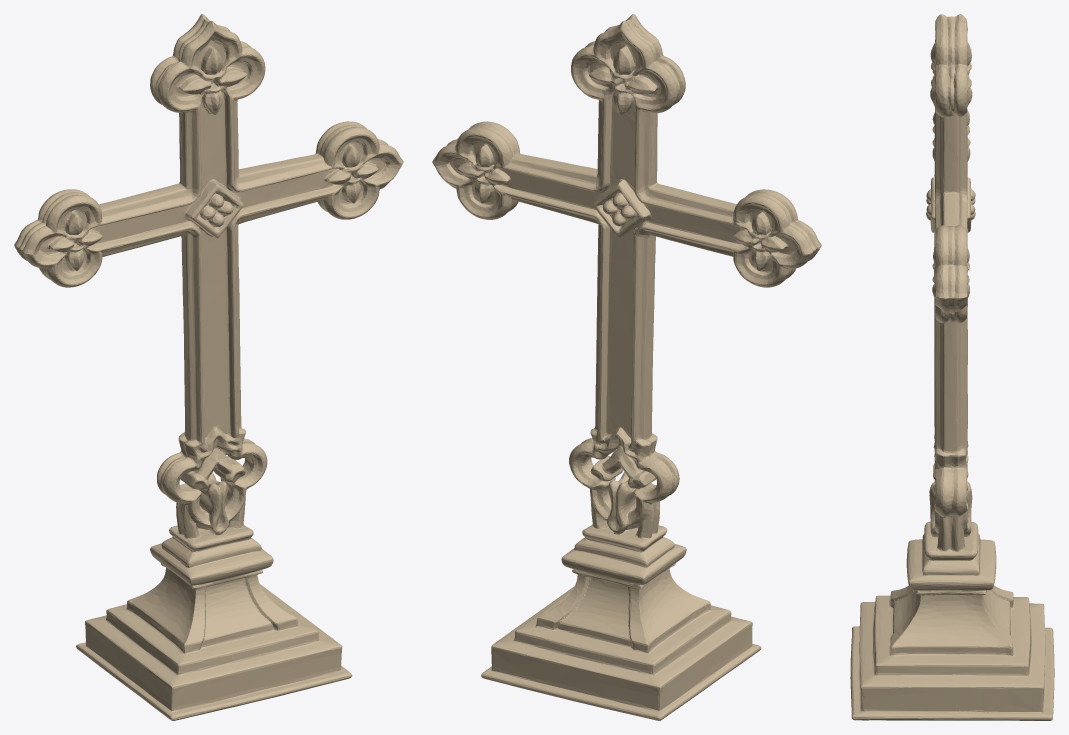
Rendered from altar-cross-center.glb.
The picture shows the model from 3 angles, left to right: view 1: azimuth 30°, elevation 25°; view 2: azimuth 150°, elevation 25°; view 3: azimuth 270°, elevation 25°; orthographic projection.
Parts seen in each view (by area): view 1: ALTAR_ACC_HYPER3D_CROSS_CENTER_MASTER; view 2: ALTAR_ACC_HYPER3D_CROSS_CENTER_MASTER; view 3: ALTAR_ACC_HYPER3D_CROSS_CENTER_MASTER.
Part boxes in pixels (left/top/right/bottom): ALTAR_ACC_HYPER3D_CROSS_CENTER_MASTER: left=14, top=14, right=403, bottom=720; ALTAR_ACC_HYPER3D_CROSS_CENTER_MASTER: left=432, top=14, right=821, bottom=720; ALTAR_ACC_HYPER3D_CROSS_CENTER_MASTER: left=850, top=14, right=1054, bottom=720.
Bounding box in the file's own units: 1.58 × 2.59 × 0.7247.
